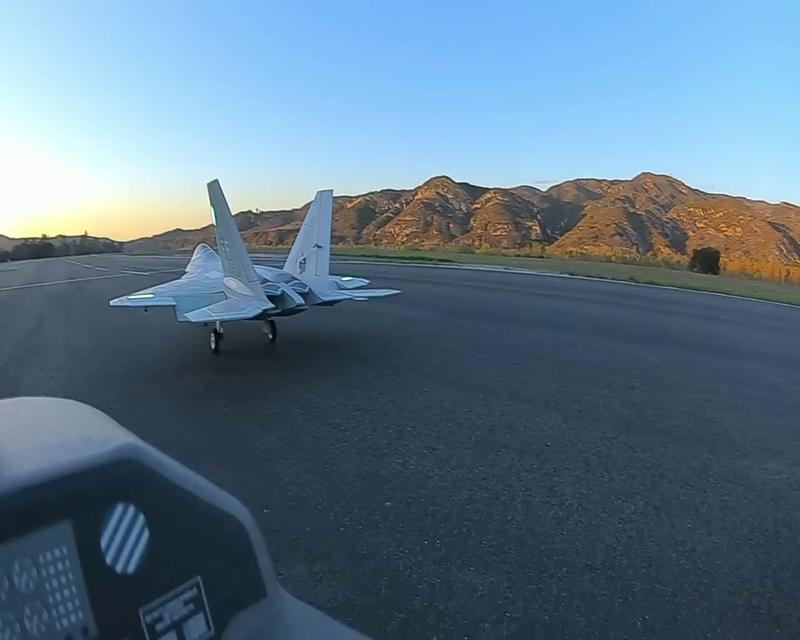UAV: (108, 178, 400, 350)
